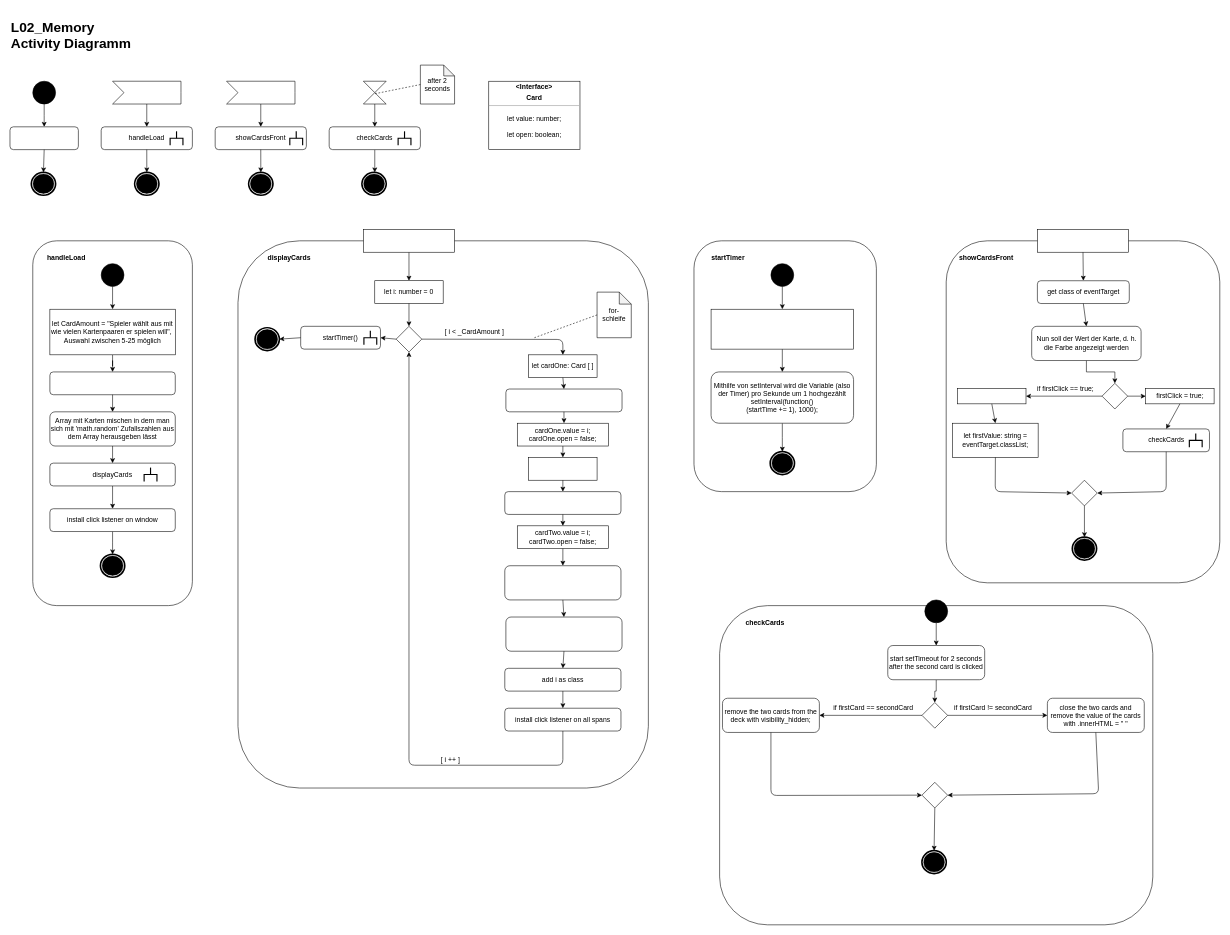
Some shapes in this 1230 by 935 pixel diagram are drawn without their labels. Here are the shapes that lost their labels. From the top down, the box of each, then its label:
(112, 81, 181, 104): load
(226, 81, 295, 104): click
(9, 126, 78, 150): install load listener on window
(363, 229, 455, 252): _CardAmount: number
(1037, 229, 1129, 252): _event: pointerevent
(711, 309, 854, 349): Variable deklarieren, um die Spielzeit festzuhalten let startTime = 0
(49, 371, 175, 395): Array erstellen und die Karten darin definieren
(505, 388, 622, 412): set back color of card one
(957, 388, 1026, 404): firstClick = false;
(528, 457, 597, 480): let cardTwo: Card [ ]
(504, 491, 621, 514): set back color of card two
(504, 565, 621, 600): push cardOne and cardTwo into the allCards Array
(505, 616, 622, 651): create span for cardOne and cardTwo with color black
